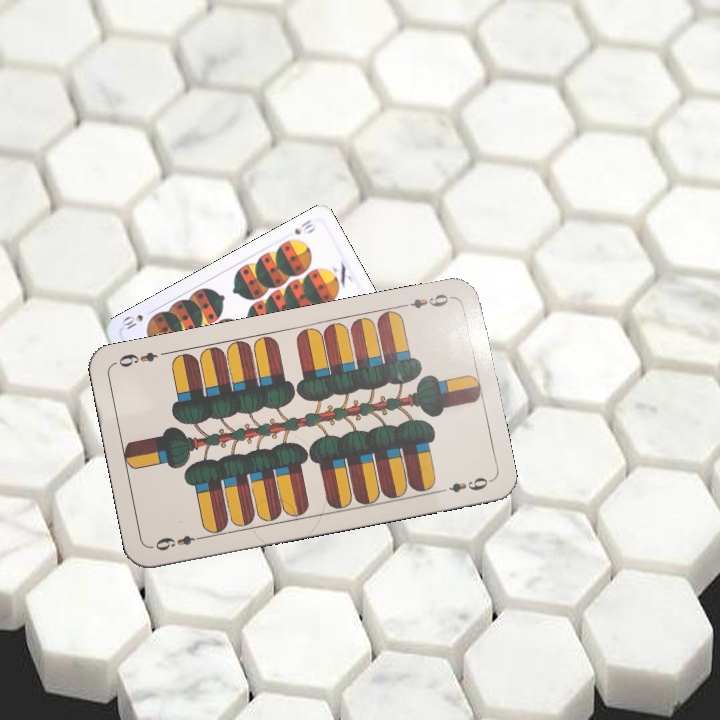E9: (397, 289, 456, 312), (151, 531, 207, 554)
S10: (290, 215, 319, 237)
